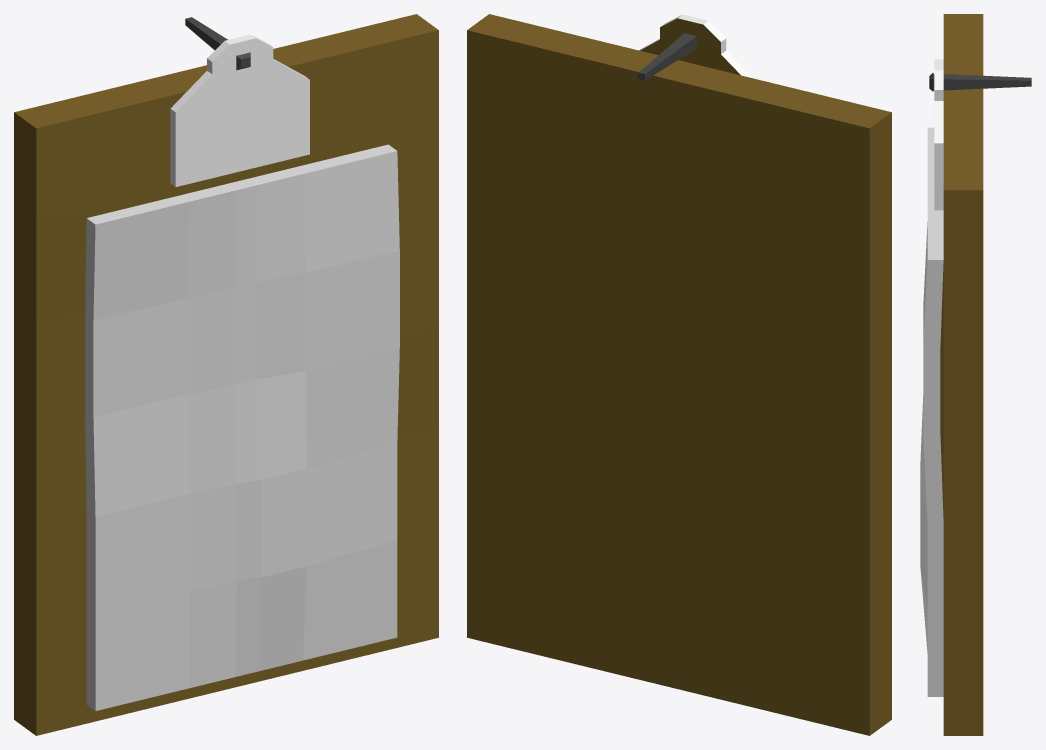
File: clipboard.fbx
The picture shows the model from 3 angles, left to right: view 1: azimuth 30°, elevation 25°; view 2: azimuth 150°, elevation 25°; view 3: azimuth 270°, elevation 25°; orthographic projection. The views are drawn at different scales.
Visible parts, largest first — view 1: Clipboard; view 2: Clipboard; view 3: Clipboard.
Boxes of the visible parts, bbox=[...] form: Clipboard: bbox=[14, 14, 438, 735]; Clipboard: bbox=[467, 14, 891, 735]; Clipboard: bbox=[920, 14, 1031, 735].
Size of the model in its own units: 924 by 1424 by 246.
